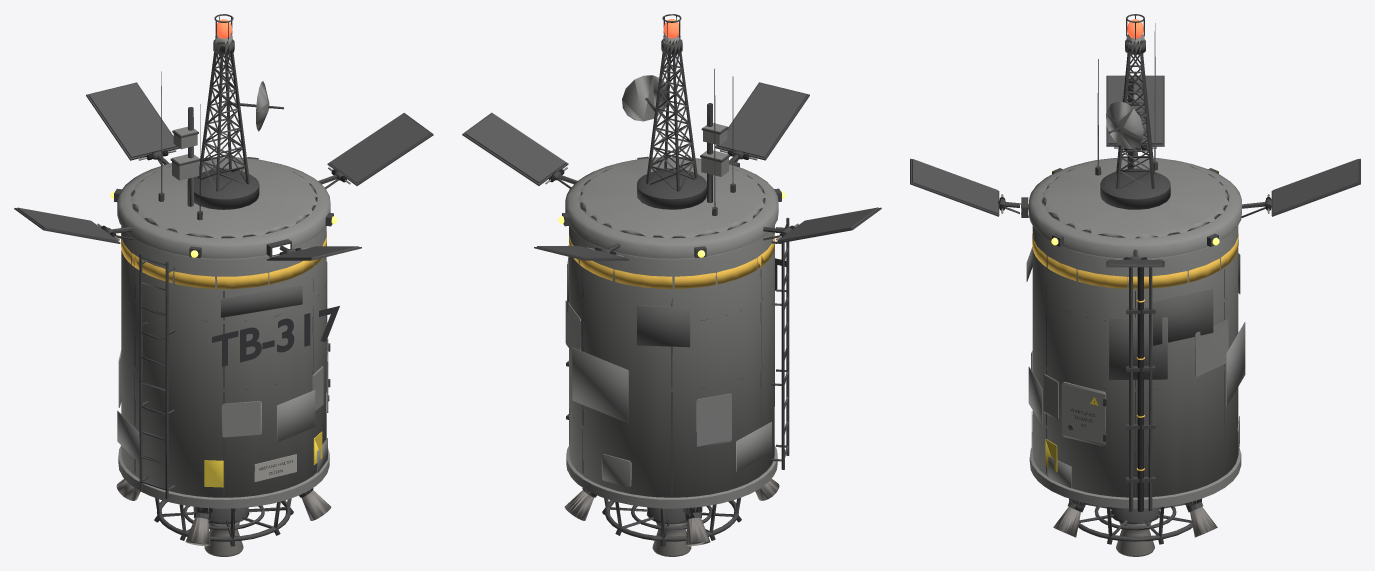
The model's file is Navigationsboje.glb.
3 renders of one model, left to right at view 1: azimuth 30°, elevation 25°; view 2: azimuth 150°, elevation 25°; view 3: azimuth 270°, elevation 25°, orthographic.
Parts seen in each view (by area): view 1: Navigationsboje_lack, Navigationsboje_matt, Navigationsboje_metall, Navigationsboje_schrift, Navigationsboje_warn; view 2: Navigationsboje_lack, Navigationsboje_matt, Navigationsboje_metall; view 3: Navigationsboje_lack, Navigationsboje_matt, Navigationsboje_metall.
Part boxes in pixels (<box>): Navigationsboje_lack: <box>14,14,433,541</box>; Navigationsboje_matt: <box>121,231,326,546</box>; Navigationsboje_metall: <box>97,150,350,556</box>; Navigationsboje_schrift: <box>212,306,339,475</box>; Navigationsboje_warn: <box>204,431,322,487</box>; Navigationsboje_lack: <box>462,14,881,541</box>; Navigationsboje_matt: <box>569,234,774,546</box>; Navigationsboje_metall: <box>545,150,798,556</box>; Navigationsboje_lack: <box>910,14,1360,541</box>; Navigationsboje_matt: <box>1032,231,1238,544</box>; Navigationsboje_metall: <box>999,145,1271,556</box>.
Bounding box in the file's own units: 4.61 × 5.99 × 4.61.
